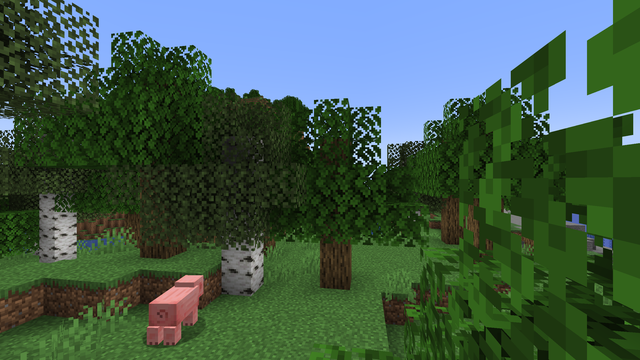cochons: (143, 284, 203, 343)
